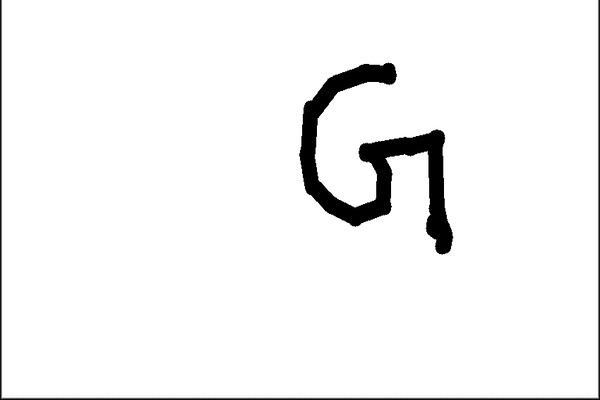G: (293, 58, 458, 260)
